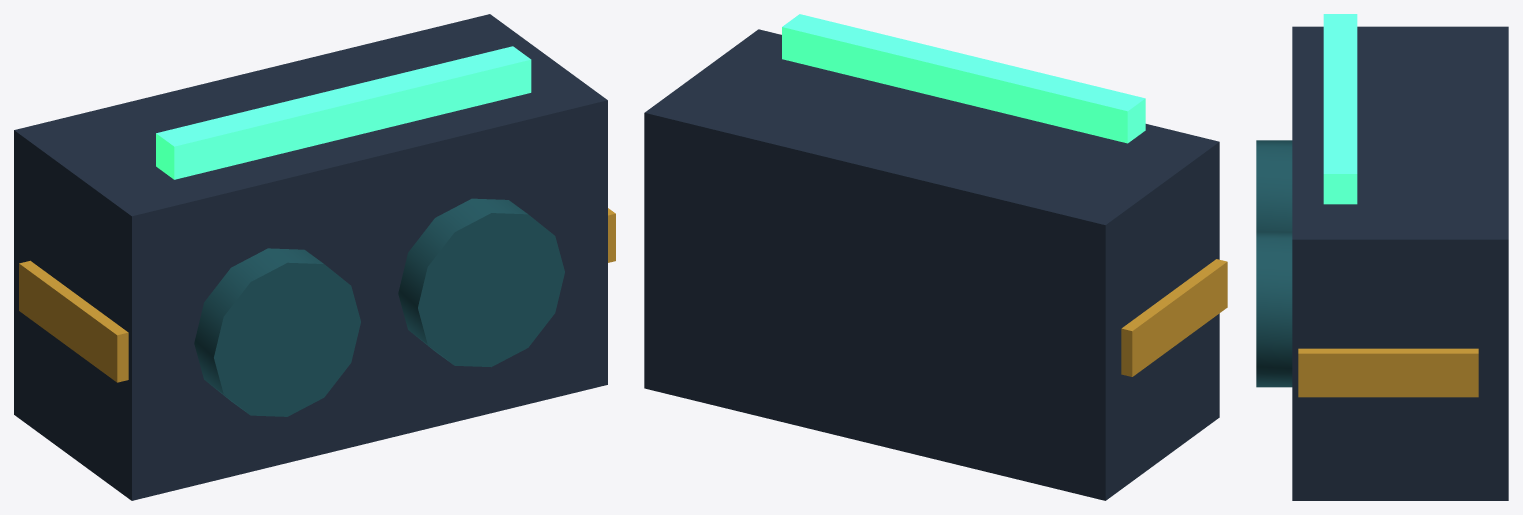
File: bat-m.glb
The picture shows the model from 3 angles, left to right: view 1: azimuth 30°, elevation 25°; view 2: azimuth 150°, elevation 25°; view 3: azimuth 270°, elevation 25°; orthographic projection. The views are drawn at different scales.
Parts seen in each view (by area): view 1: battery_tray_base, li_ion_cell_0, li_ion_cell_1, charge_led_strip, battery_thermal_strap; view 2: battery_tray_base, charge_led_strip, battery_thermal_strap; view 3: battery_tray_base, battery_thermal_strap, charge_led_strip, li_ion_cell_1, li_ion_cell_0.
Boxes of the visible parts, x1=… form: battery_tray_base: x1=14, y1=14, x2=607, y2=500; li_ion_cell_0: x1=194, y1=248, x2=360, y2=416; li_ion_cell_1: x1=398, y1=198, x2=564, y2=367; charge_led_strip: x1=156, y1=46, x2=531, y2=179; battery_thermal_strap: x1=19, y1=208, x2=615, y2=382; battery_tray_base: x1=644, y1=29, x2=1219, y2=500; charge_led_strip: x1=782, y1=14, x2=1145, y2=143; battery_thermal_strap: x1=1121, y1=259, x2=1227, y2=376; battery_tray_base: x1=1292, y1=26, x2=1508, y2=500; battery_thermal_strap: x1=1298, y1=348, x2=1478, y2=397; charge_led_strip: x1=1323, y1=14, x2=1357, y2=204; li_ion_cell_1: x1=1256, y1=231, x2=1292, y2=387; li_ion_cell_0: x1=1256, y1=140, x2=1292, y2=231.
Bounding box in the file's own units: 0.44 × 0.276 × 0.21.
